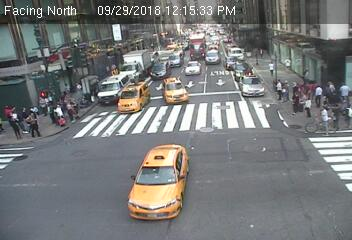car: (126, 144, 193, 220), (92, 73, 128, 105), (119, 80, 147, 112), (164, 78, 187, 104), (188, 30, 206, 62), (239, 77, 266, 97), (149, 62, 168, 81), (234, 64, 253, 81), (185, 60, 204, 73), (224, 53, 238, 70), (168, 52, 182, 68), (206, 52, 221, 64)
